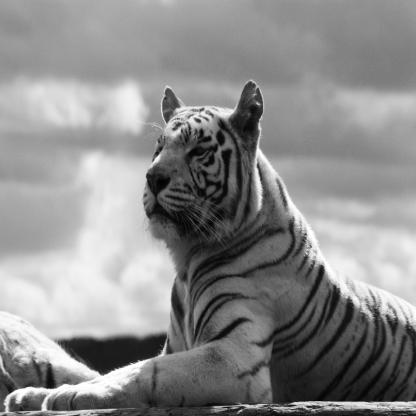Tiger: (4, 78, 416, 411)
